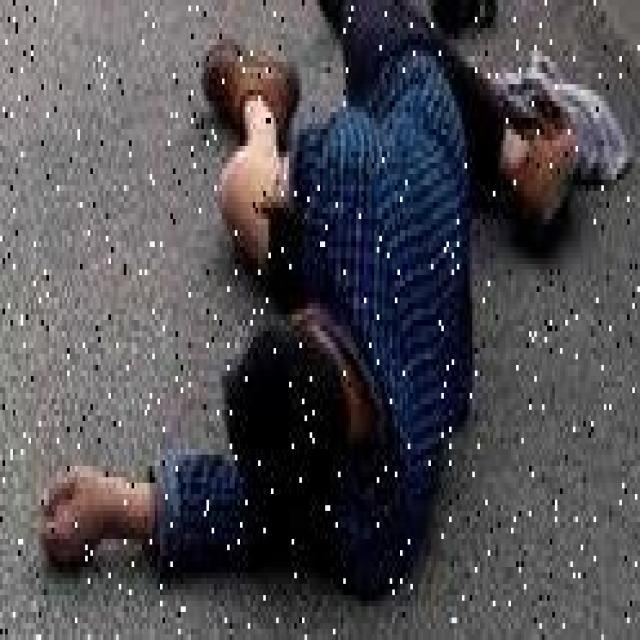fall: (41, 0, 596, 561)
